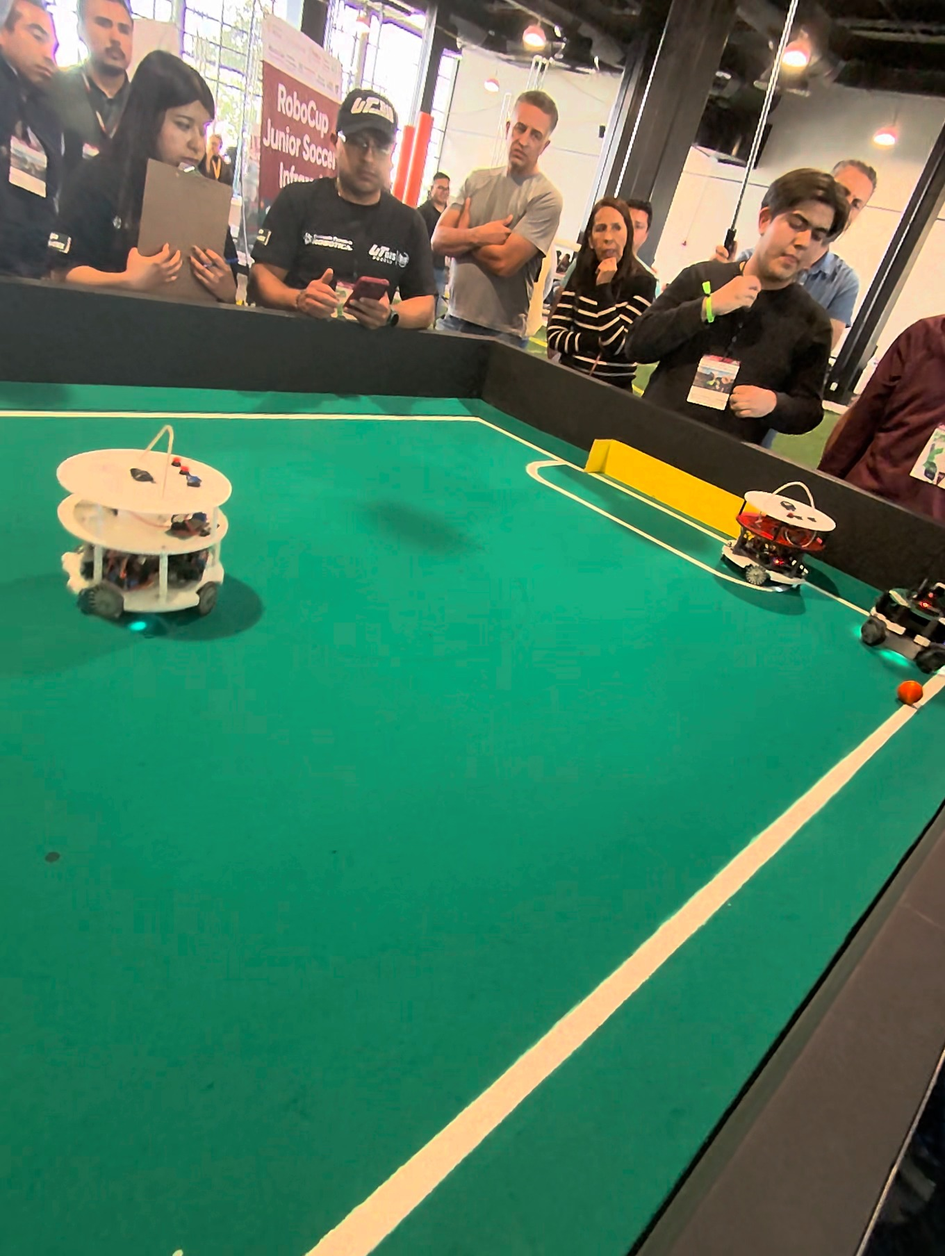Robot: (47, 434, 228, 650), (724, 480, 820, 605), (857, 573, 941, 677)
pelota: (895, 679, 923, 705)
